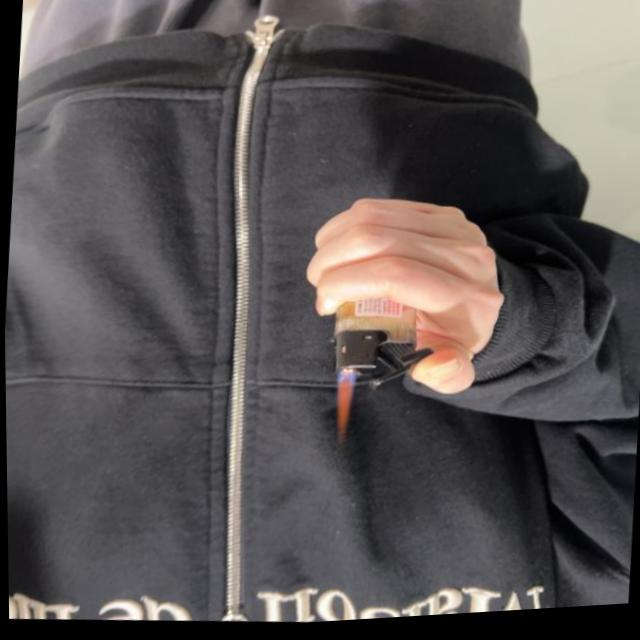Fire: (330, 373, 350, 449)
